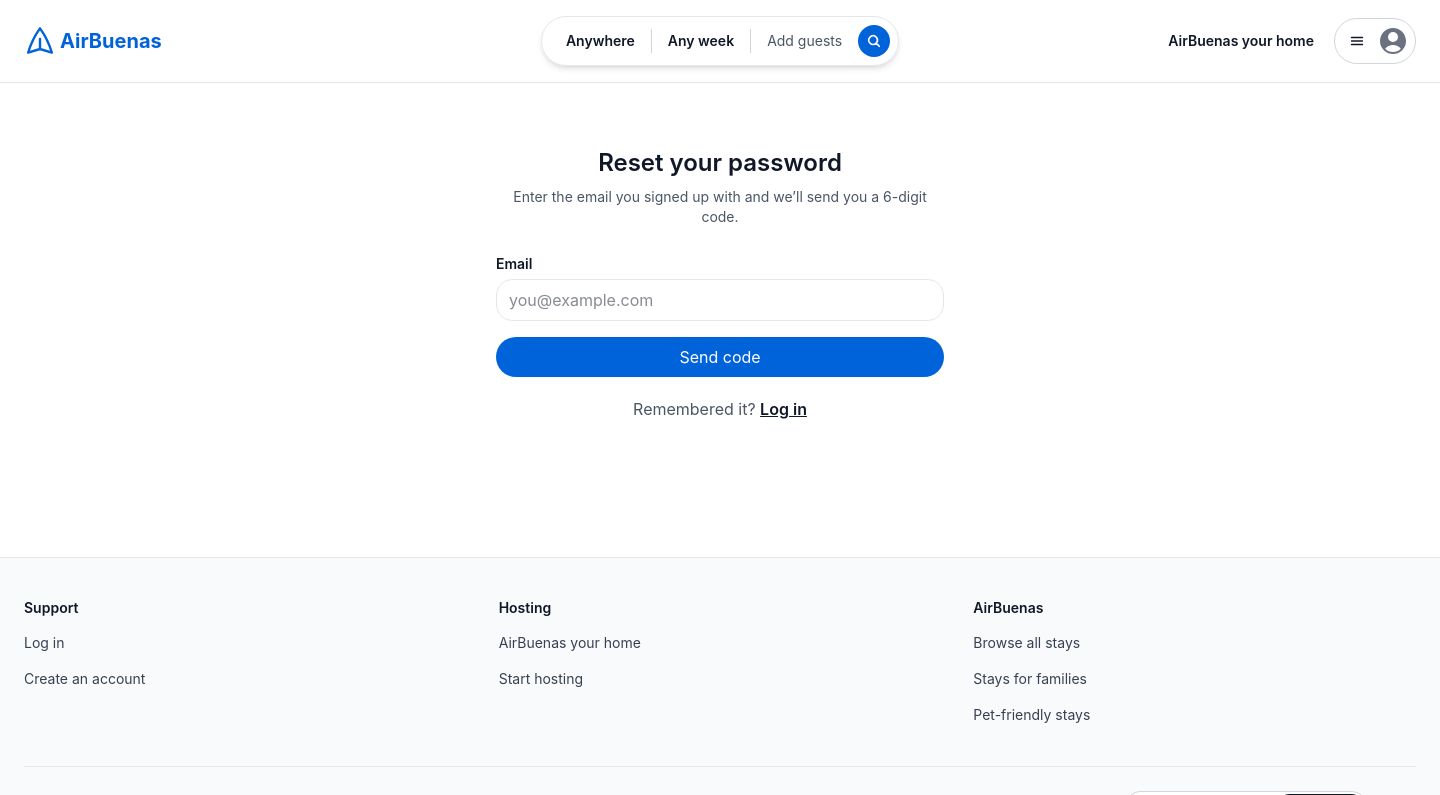
Test case: password reset › resets the password with the emailed code and logs the user in
In the field labelled "Email": x=720, y=300 [496,279,944,321], type "amina@example.com"
Click the button "Send code": x=720, y=357 [496,337,944,377]
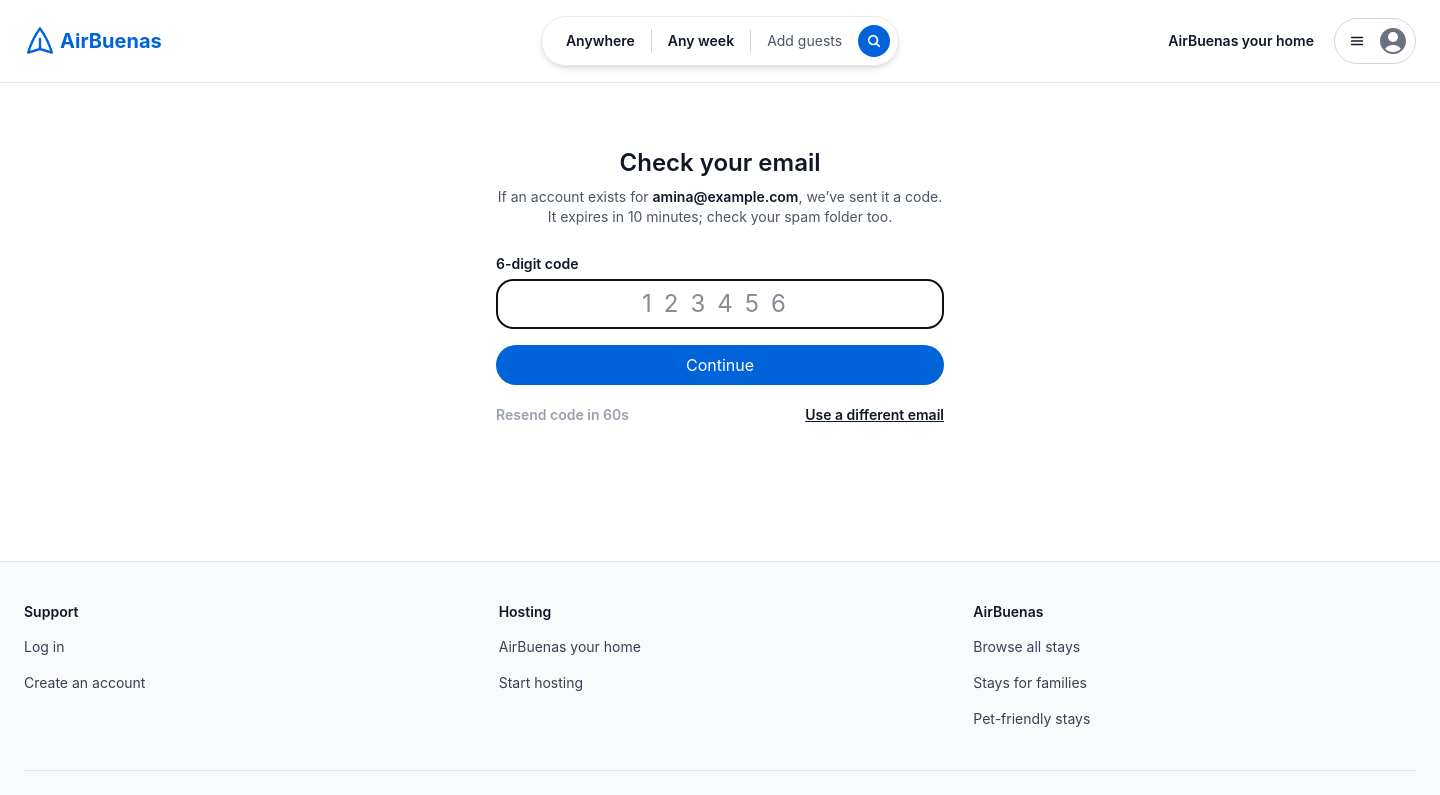
Check: the heading "Check your email" is shown, box [620,148,820,177]
Check: the text "amina@example.com" is shown, box [652,188,798,205]
Check: the button "Resend code in 60s" is disabled, box [496,405,629,425]
In the field labelled "6-digit code": x=720, y=304 [496,279,944,329], type "12a3-4567"
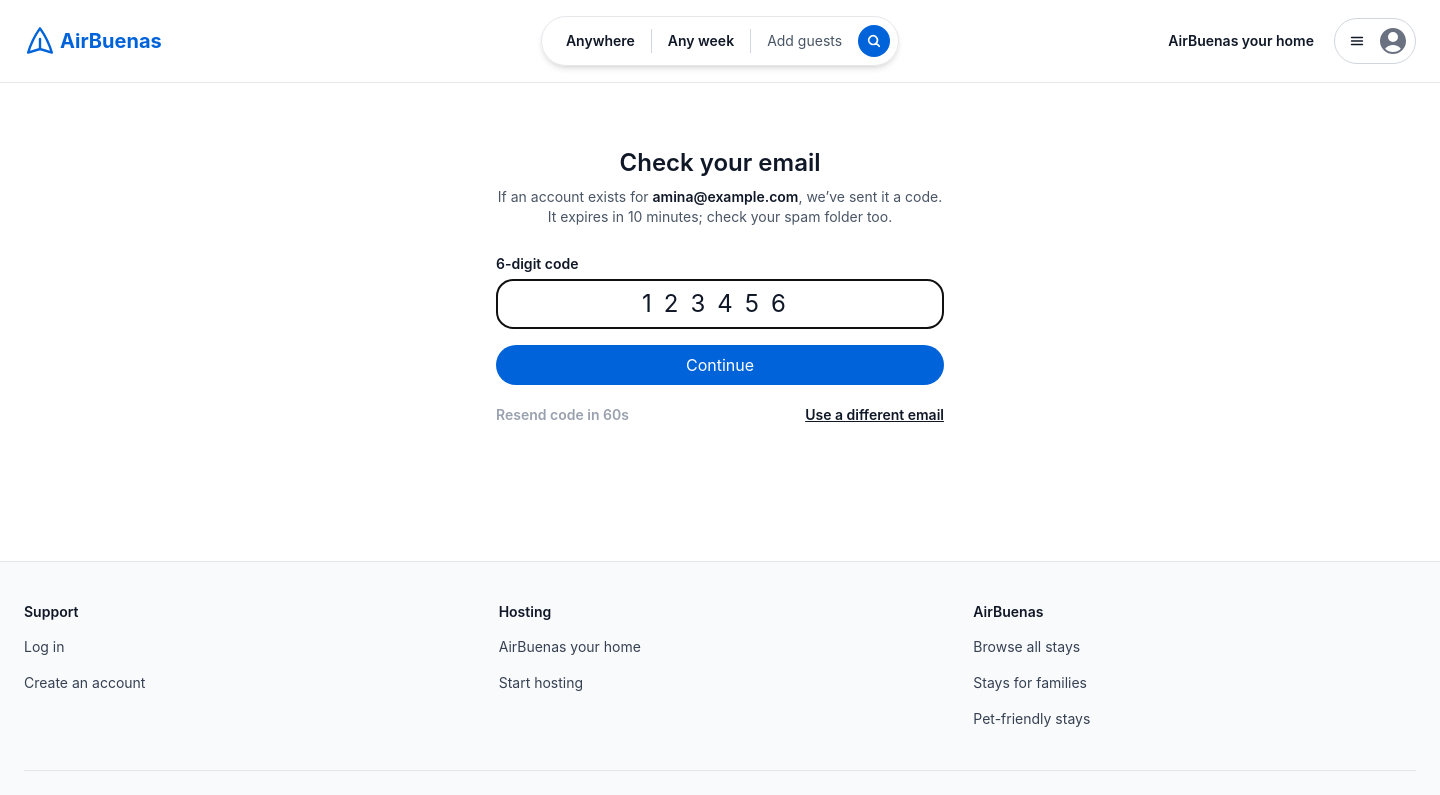
Check: the field labelled "6-digit code" holds "123456", box [496,279,944,329]
Click the button "Continue": x=720, y=365 [496,345,944,385]
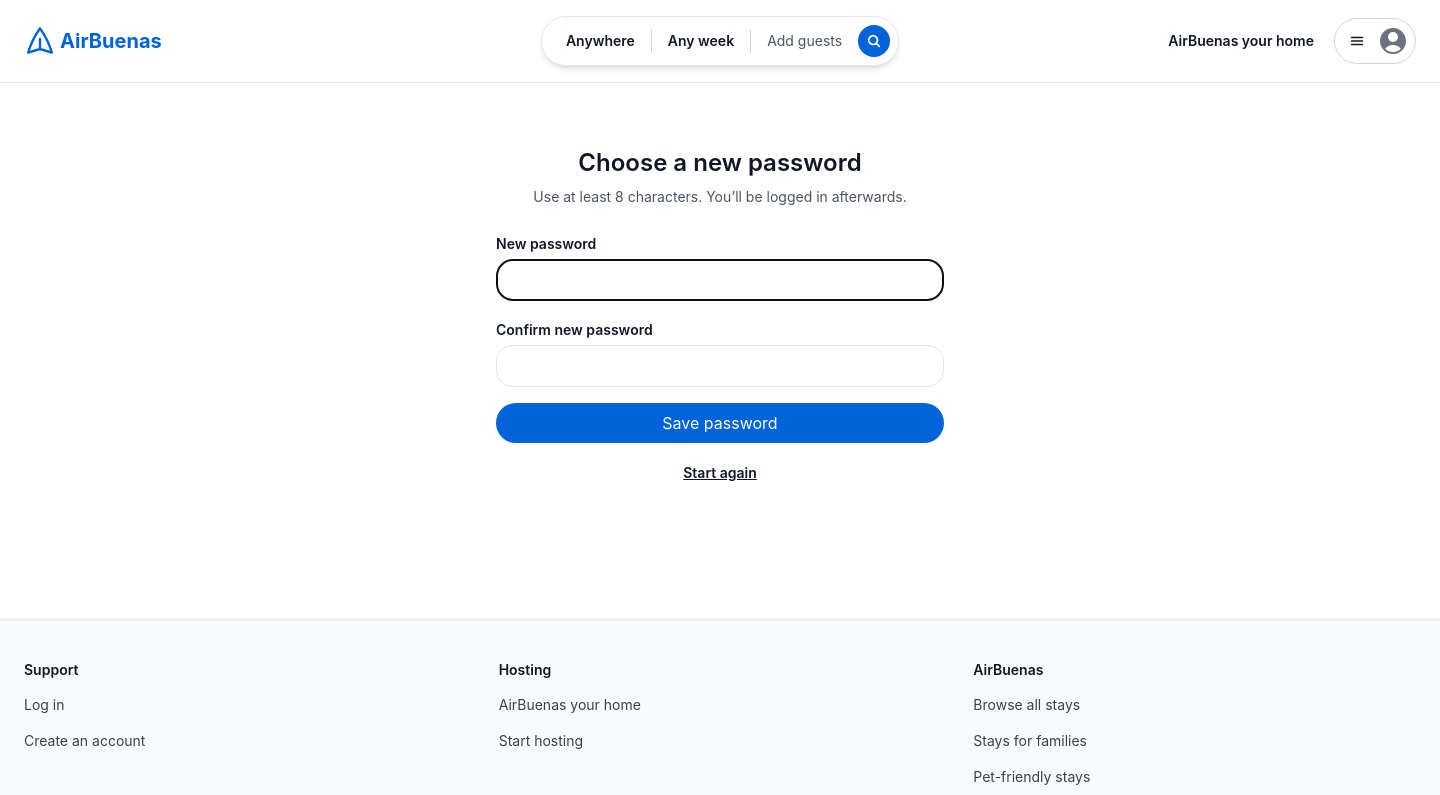
Check: the heading "Choose a new password" is shown, box [578,148,862,177]
In the password field labelled "New password": x=720, y=280 [496,259,944,301], type "a brand new password"
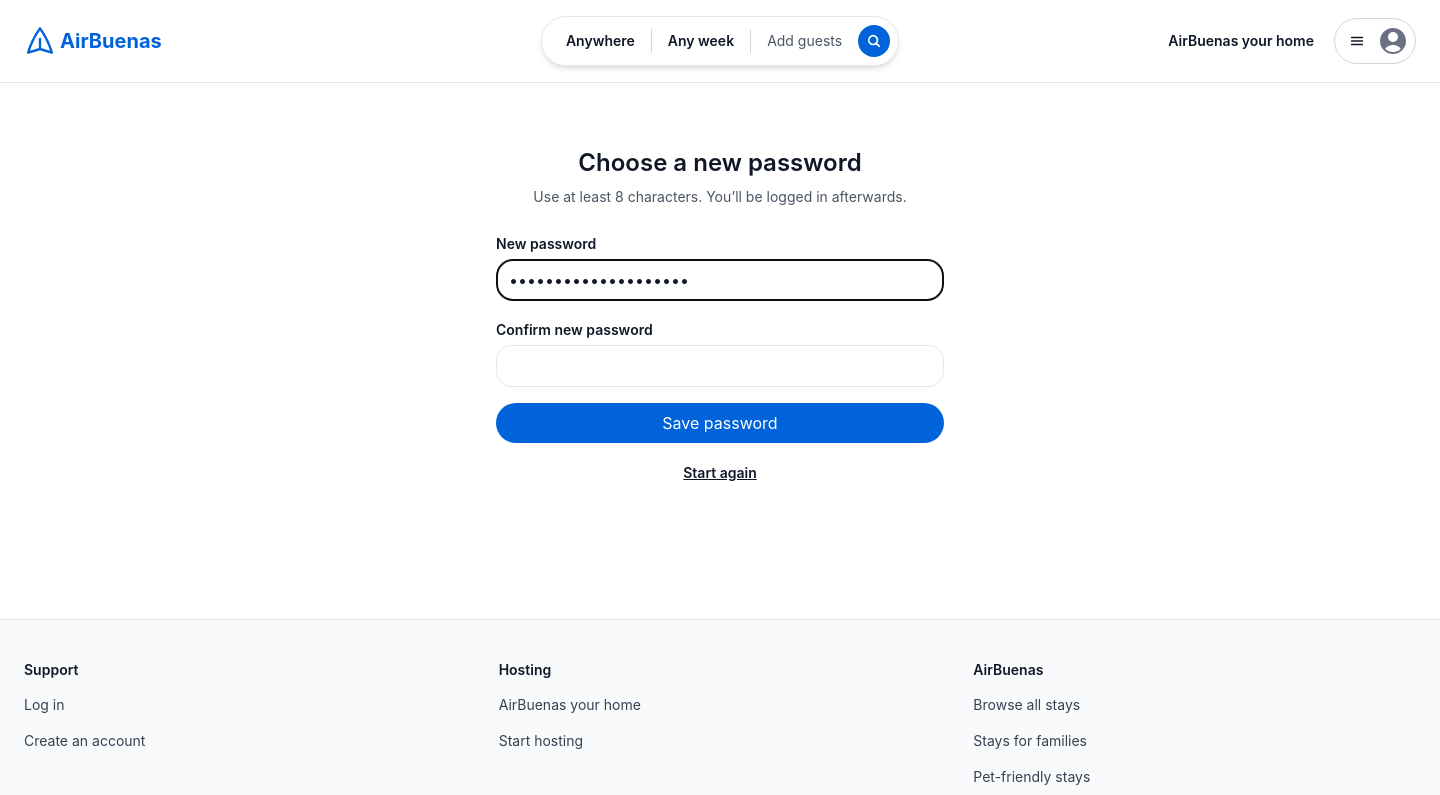
In the password field labelled "Confirm new password": x=720, y=366 [496,345,944,387], type "a brand new password"
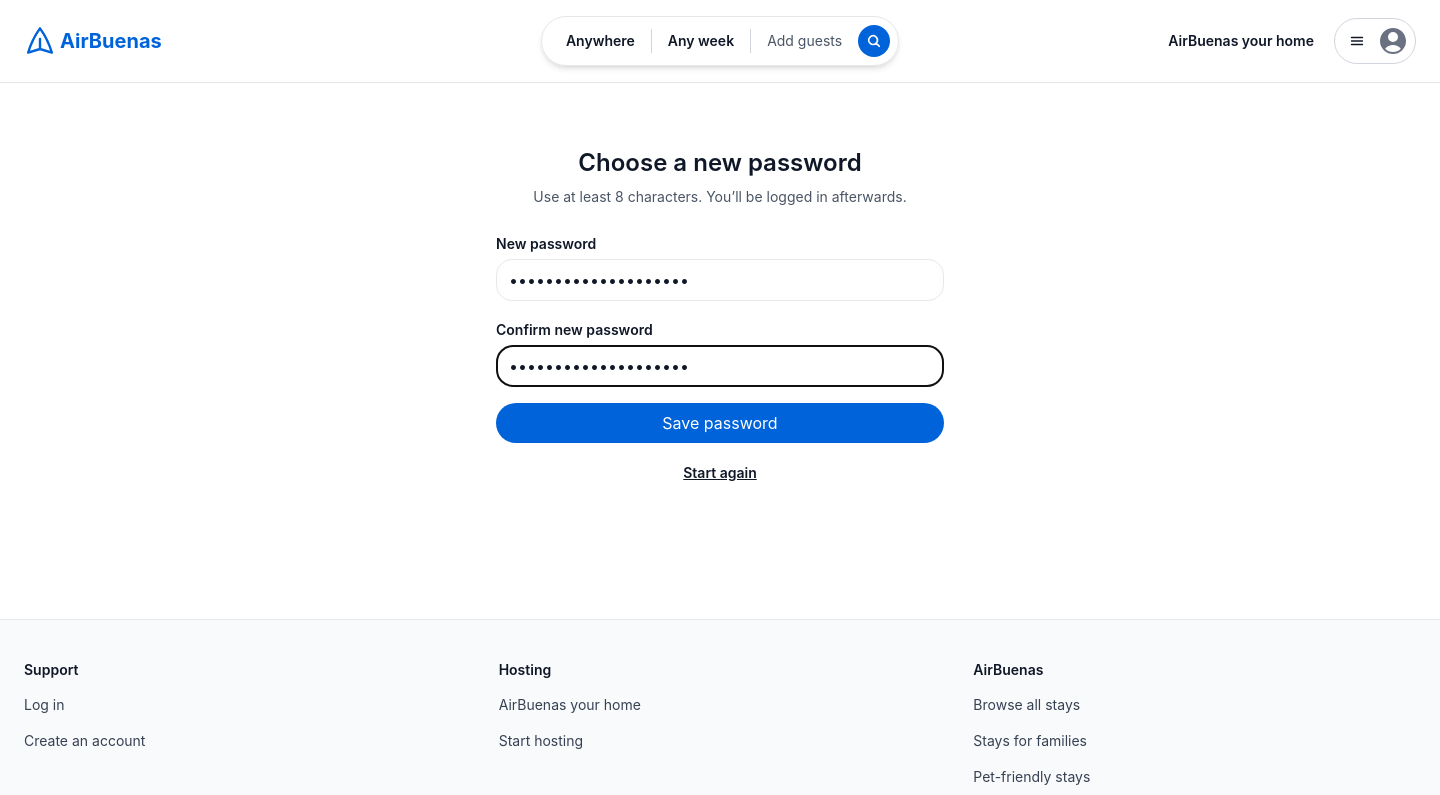
Click the button "Save password": x=720, y=423 [496,403,944,443]
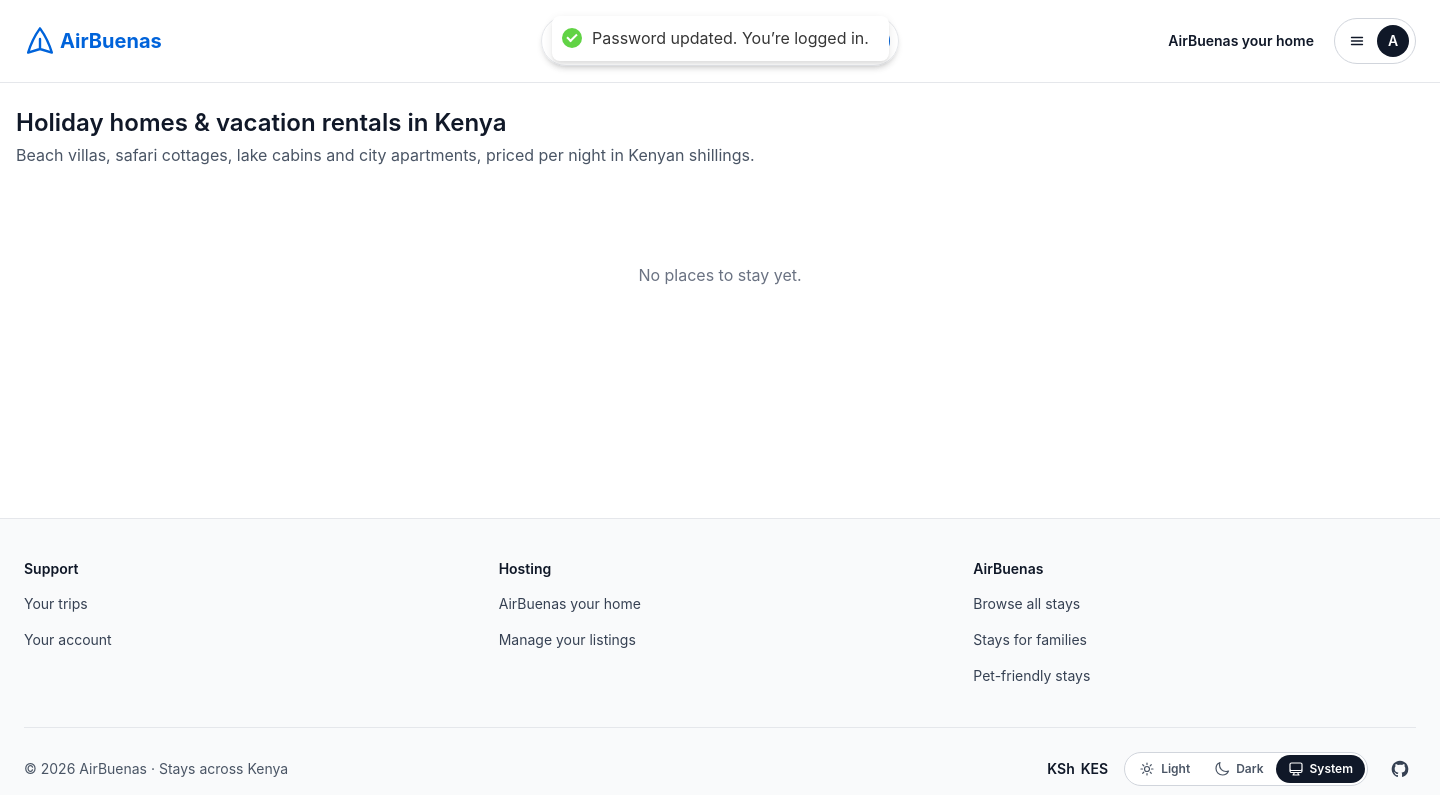
Check: the text "Password updated. You’re logged in." is shown, box [592,28,868,49]
